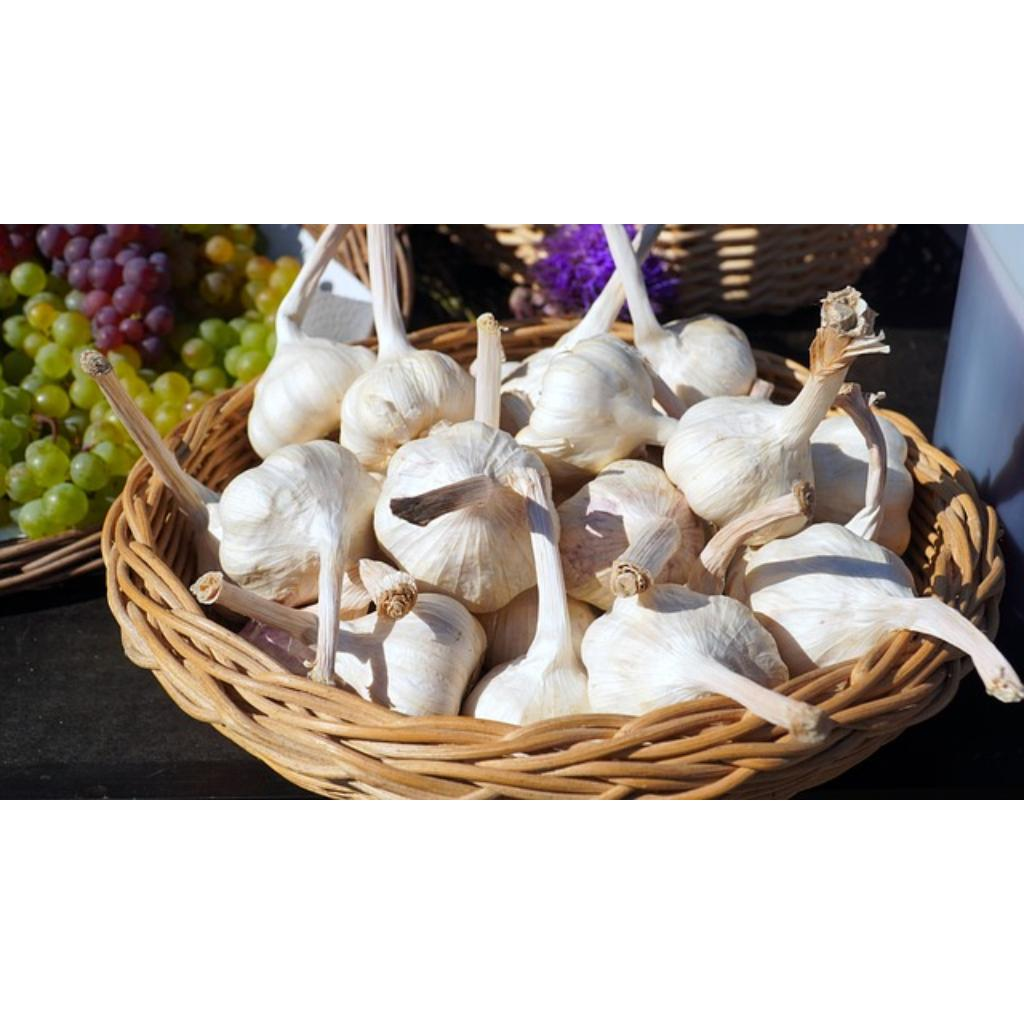garlic: (666, 286, 888, 525), (734, 524, 1024, 701), (218, 440, 380, 683), (582, 584, 830, 742), (374, 420, 548, 612), (340, 224, 474, 471), (464, 468, 590, 725), (248, 224, 376, 457), (334, 558, 486, 716), (516, 334, 678, 473), (560, 460, 704, 607), (190, 572, 318, 650)
